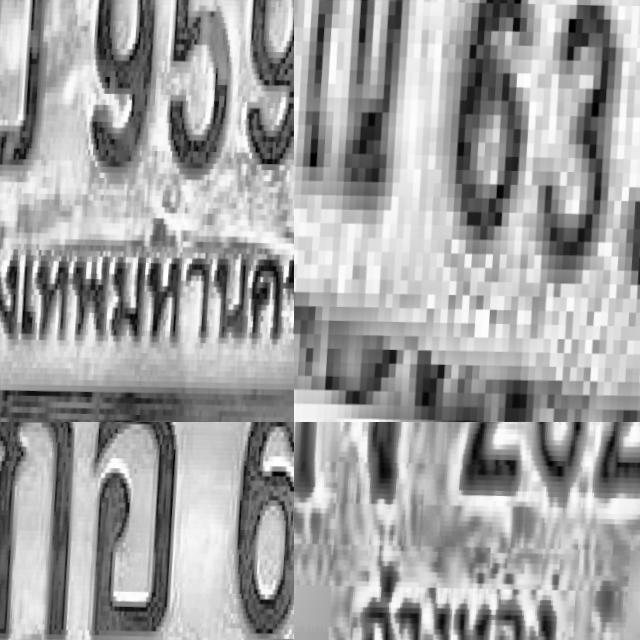license-plate: (294, 0, 640, 422), (0, 0, 294, 422), (294, 422, 640, 640), (0, 422, 294, 640)
